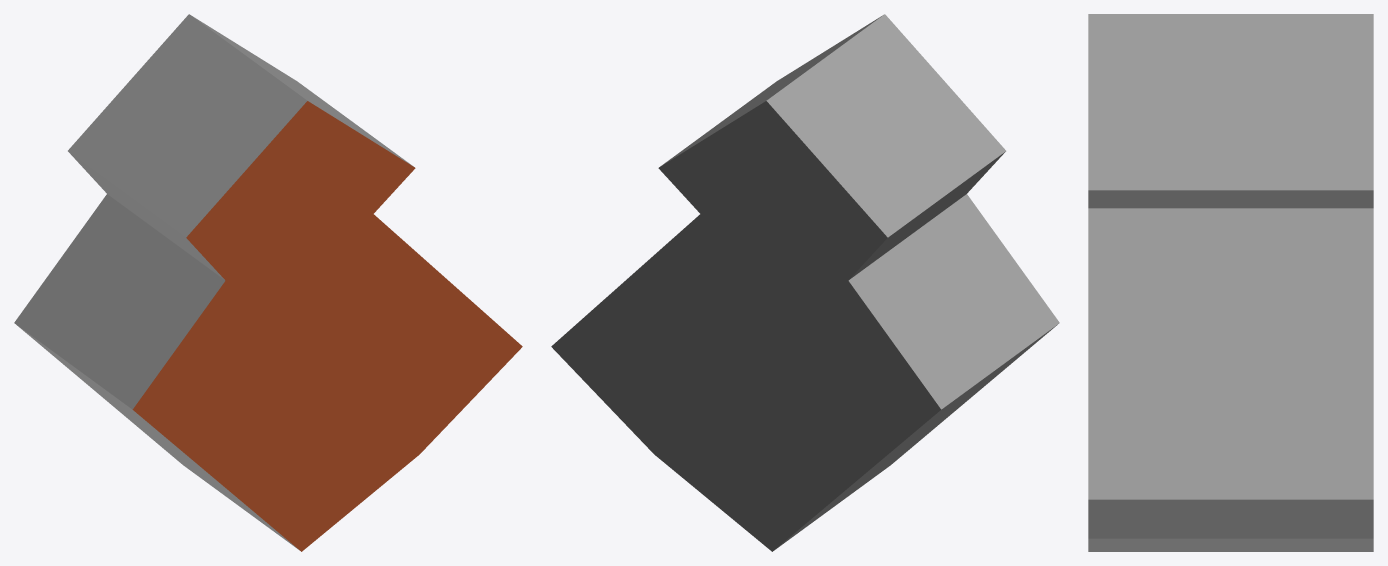
Rendered from construction_5547_assumed_A_Casa_h6m.obj.
3 views of the same model, side by side, from view 1: azimuth 30°, elevation 25°; view 2: azimuth 150°, elevation 25°; view 3: azimuth 270°, elevation 25° (orthographic). The views are drawn at different scales.
Parts seen in each view (by area): view 1: construction_5547_assumed_A_Casa; view 2: construction_5547_assumed_A_Casa; view 3: construction_5547_assumed_A_Casa.
Boxes of the visible parts, x1,y1,x2,y2 form: construction_5547_assumed_A_Casa: [14, 14, 522, 551]; construction_5547_assumed_A_Casa: [551, 14, 1059, 551]; construction_5547_assumed_A_Casa: [1088, 14, 1373, 551].
Size of the model in its own units: 11.4 by 12.56 by 6.
